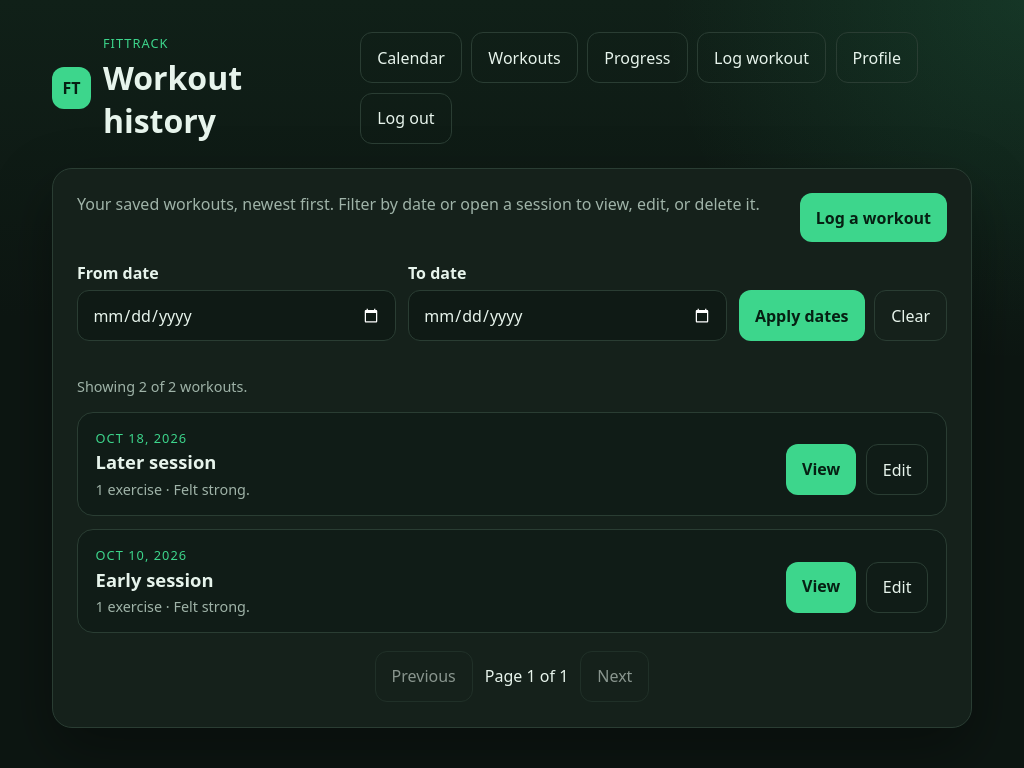
S2 workout pages › filters history by date
Expected: the heading "Later session" is shown, top-left (96, 449), bottom-right (216, 474)
In the date field labelled "From date": (236, 316) top-left (77, 290), bottom-right (396, 341), type "2026-10-18"
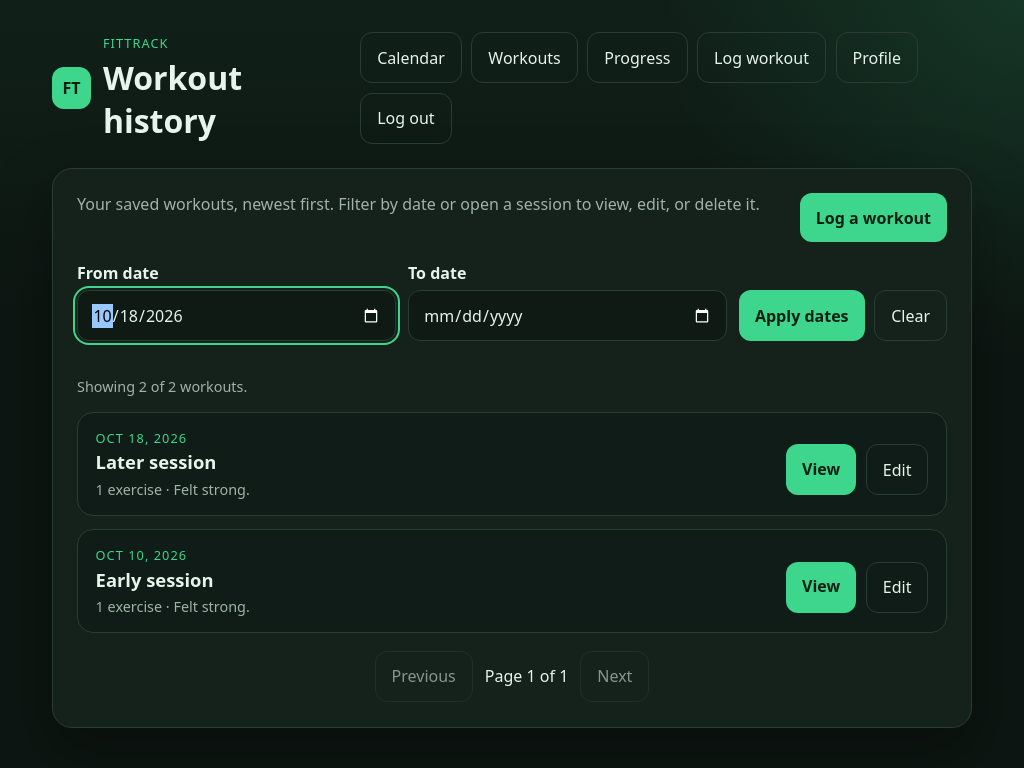
In the date field labelled "To date": (568, 316) top-left (408, 290), bottom-right (727, 341), type "2026-10-18"
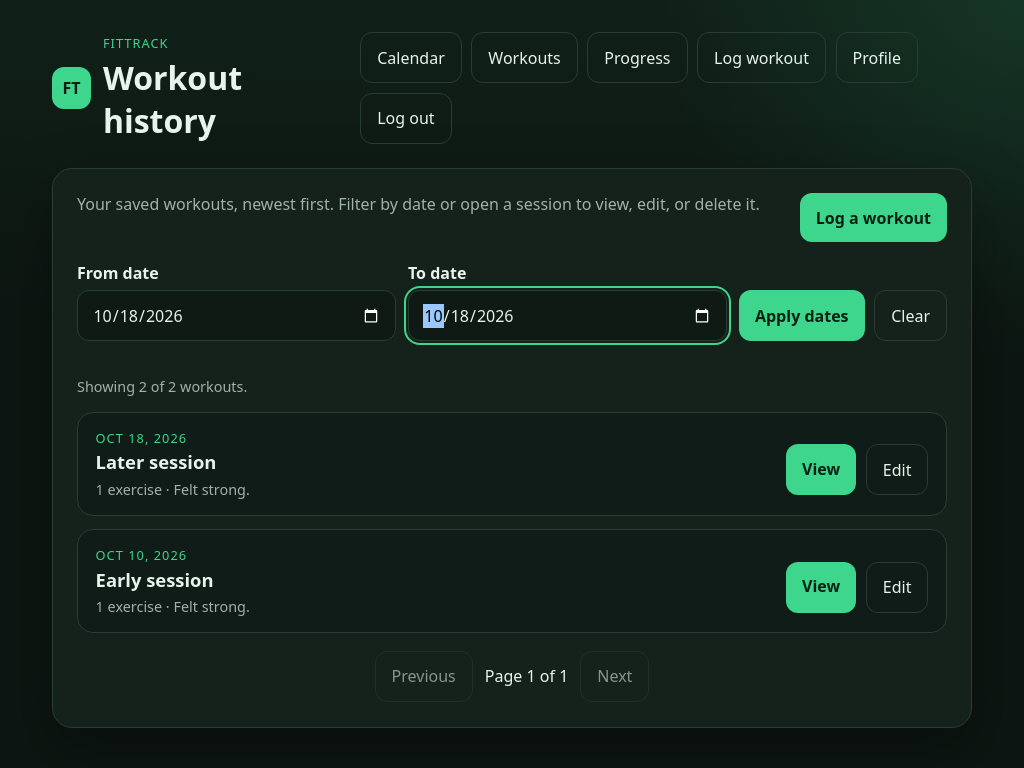
Click the button "Apply dates": click(802, 316) top-left (739, 290), bottom-right (865, 341)
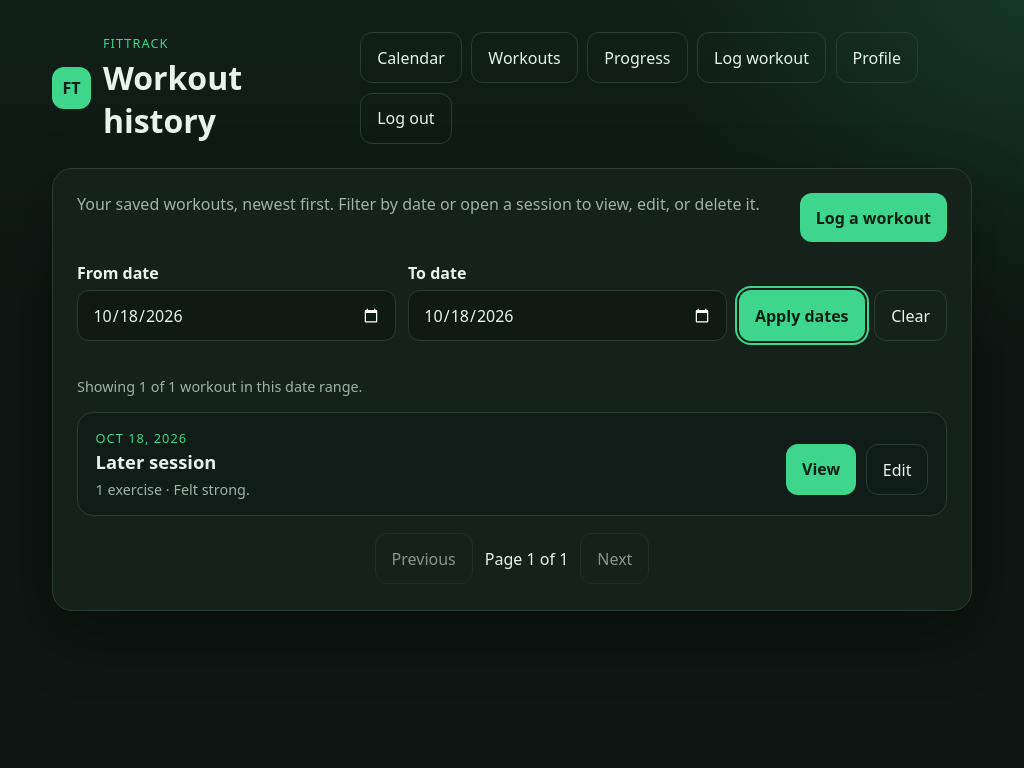
Expected: the heading "Later session" is shown, top-left (96, 449), bottom-right (216, 474)
Expected: the heading "Early session" is gone
